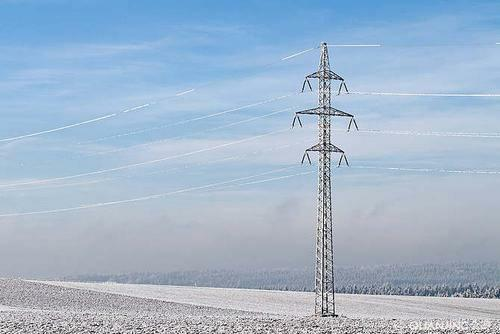power_tower: (283, 37, 362, 317)
